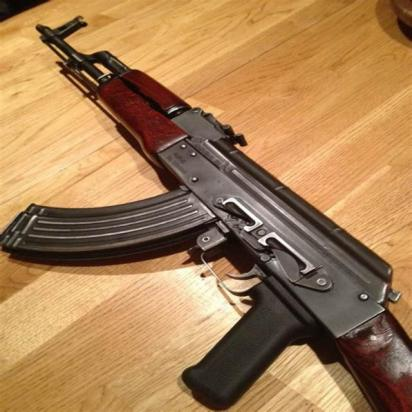Gun: (0, 11, 410, 412)
